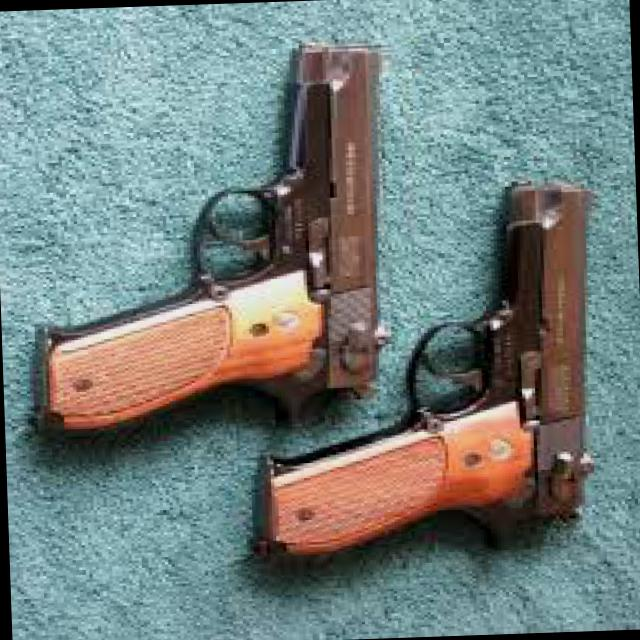handgun: (23, 34, 400, 444), (237, 174, 612, 564)
